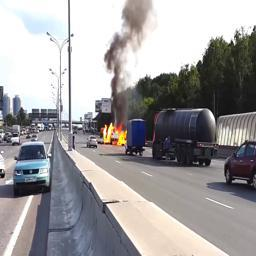fire: (102, 122, 128, 146)
